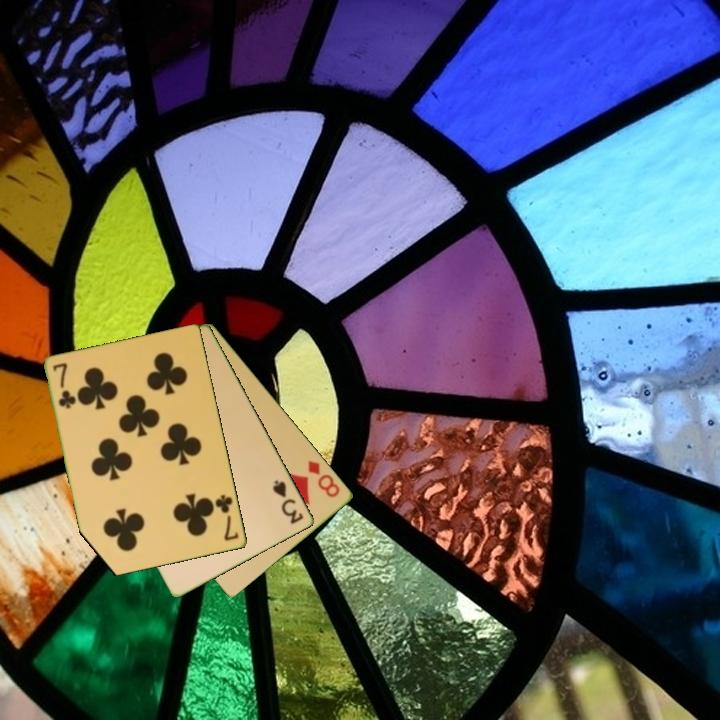3s: (269, 477, 307, 527)
7c: (212, 491, 242, 544), (50, 360, 78, 412)
8d: (305, 456, 343, 501)
